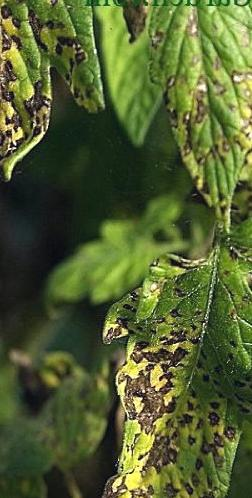Tomato Septoria leaf spot: (85, 238, 252, 498), (148, 0, 252, 237), (0, 0, 107, 185)
